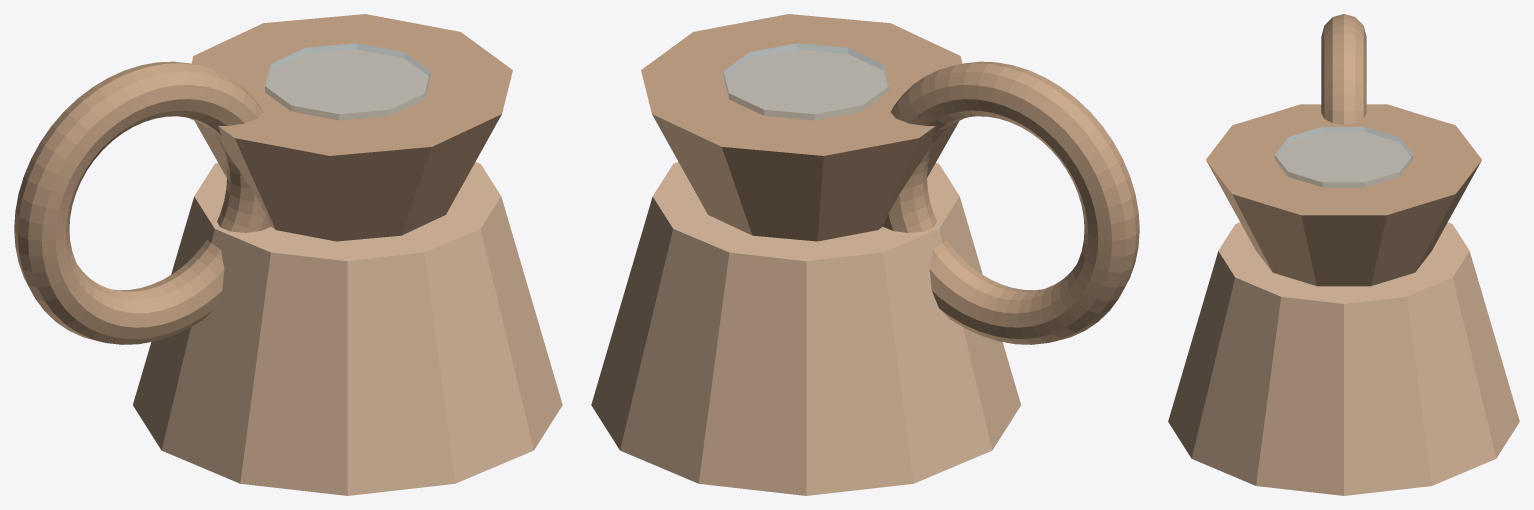
File: 18-Casas_decor_jarron_agua.glb
The picture shows the model from 3 angles, left to right: view 1: azimuth 30°, elevation 25°; view 2: azimuth 150°, elevation 25°; view 3: azimuth 270°, elevation 25°; orthographic projection. The views are drawn at different scales.
Parts seen in each view (by area): view 1: SM_Jarron_Cuerpo, SM_Jarron_Cuello, SM_Jarron_Asa, SM_Jarron_Agua; view 2: SM_Jarron_Cuerpo, SM_Jarron_Cuello, SM_Jarron_Asa, SM_Jarron_Agua; view 3: SM_Jarron_Cuerpo, SM_Jarron_Cuello, SM_Jarron_Agua, SM_Jarron_Asa.
Part boxes in pixels (x1=…): SM_Jarron_Cuerpo: x1=133, y1=161, x2=562, y2=495; SM_Jarron_Cuello: x1=191, y1=14, x2=512, y2=241; SM_Jarron_Asa: x1=14, y1=61, x2=270, y2=344; SM_Jarron_Agua: x1=265, y1=43, x2=430, y2=120; SM_Jarron_Cuerpo: x1=591, y1=161, x2=1020, y2=495; SM_Jarron_Cuello: x1=641, y1=14, x2=962, y2=241; SM_Jarron_Asa: x1=883, y1=61, x2=1139, y2=344; SM_Jarron_Agua: x1=723, y1=43, x2=888, y2=120; SM_Jarron_Cuerpo: x1=1168, y1=222, x2=1519, y2=495; SM_Jarron_Cuello: x1=1206, y1=104, x2=1481, y2=286; SM_Jarron_Agua: x1=1275, y1=127, x2=1412, y2=187; SM_Jarron_Asa: x1=1321, y1=14, x2=1366, y2=124.
Bounding box in the file's own units: 0.388 × 0.278 × 0.28.
